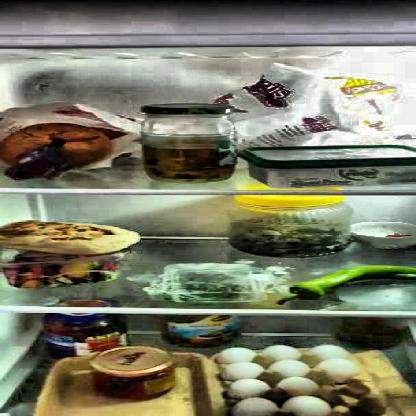cream_cheese: (241, 147, 415, 185)
eggs: (222, 348, 354, 412)
green_chillies: (282, 266, 415, 301)
olives: (232, 224, 352, 256)
red_onion: (4, 144, 73, 180)
